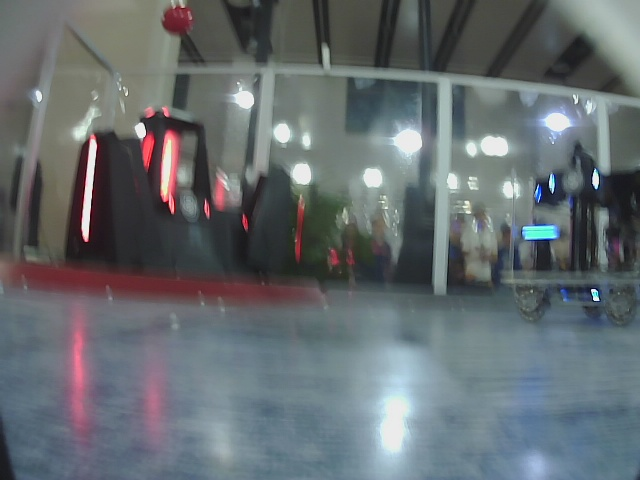lamp: (591, 168, 601, 190), (548, 171, 555, 194)
pair: (549, 172, 600, 190)
